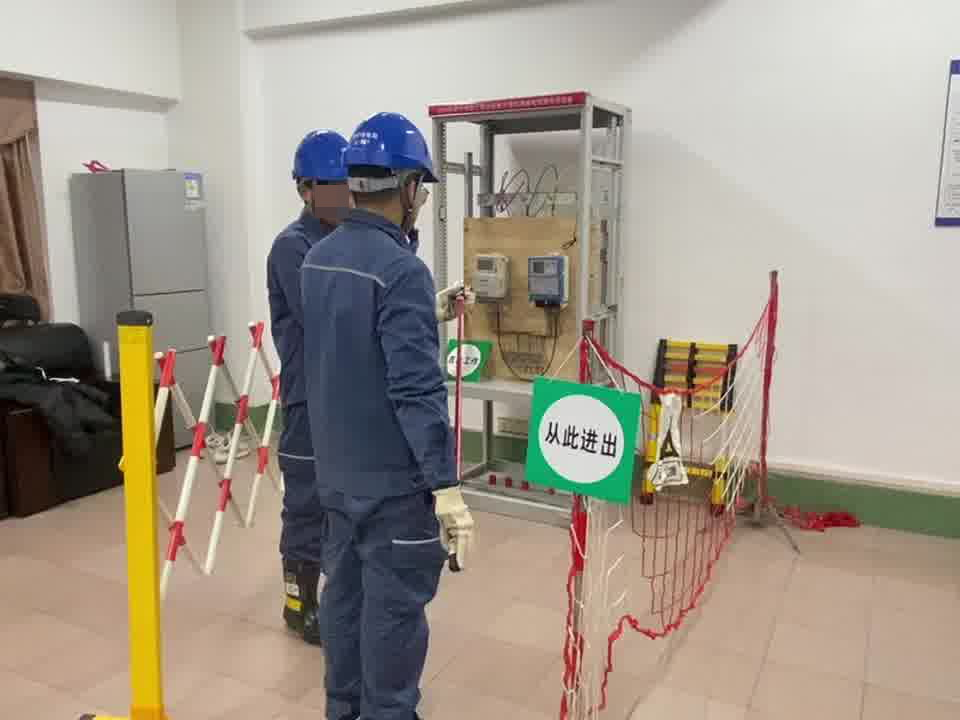downsuit: (314, 491, 445, 720), (276, 412, 327, 556)
halt: (340, 109, 443, 230), (288, 128, 354, 222)
inear: (392, 172, 428, 218), (298, 180, 322, 208)
intosign: (517, 369, 641, 506)
person: (264, 113, 468, 720)
shoe: (279, 557, 324, 632)
testrod: (452, 289, 467, 493)
upsuit: (308, 206, 457, 490), (267, 206, 336, 416)
wglove: (430, 486, 477, 569), (433, 283, 476, 321)
worksign: (443, 334, 493, 382)
